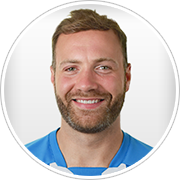smile: (70, 94, 106, 110)
